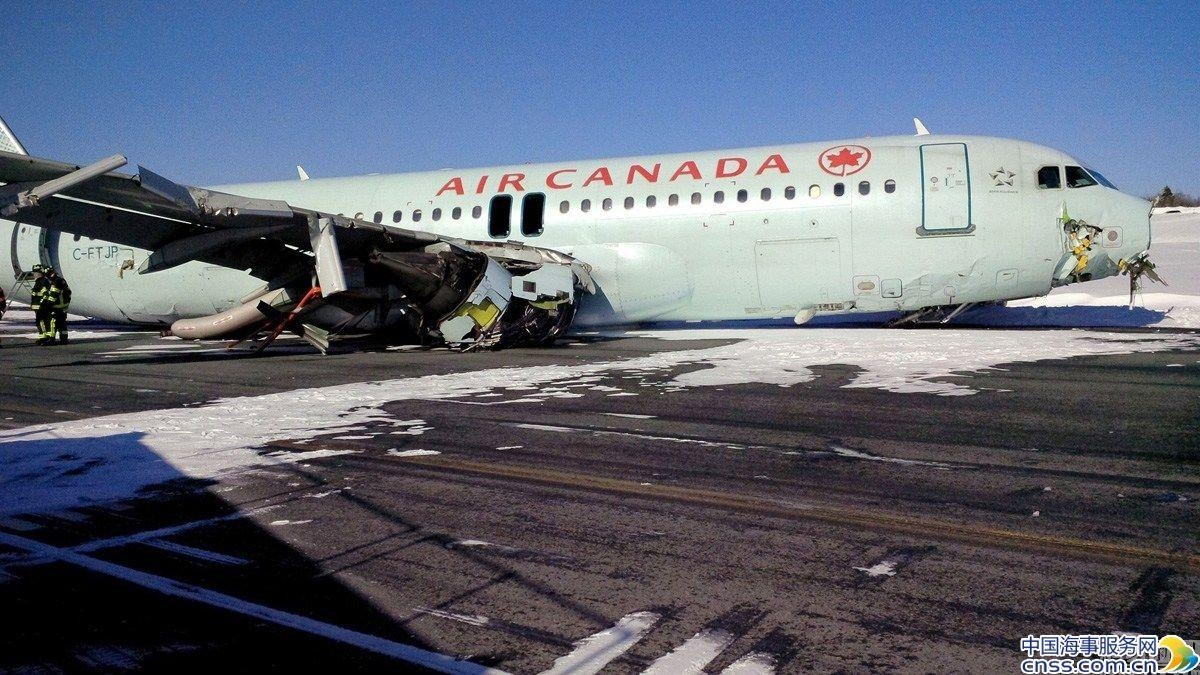airplane: (4, 119, 1156, 350)
